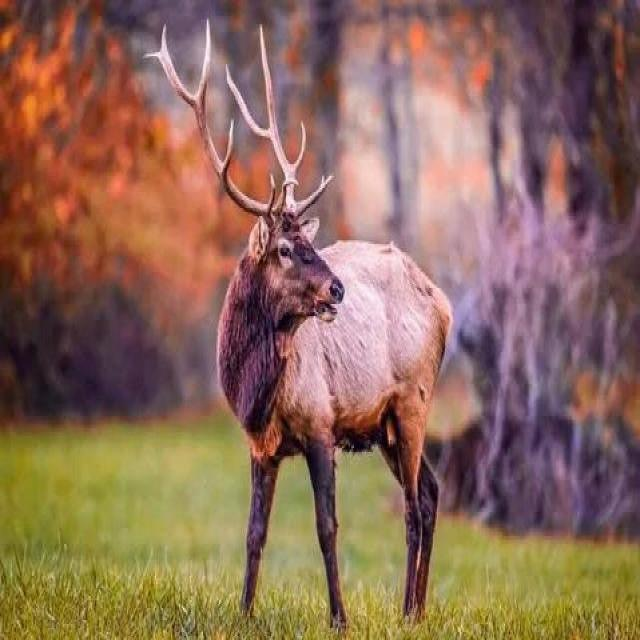deer: (169, 76, 489, 564)
